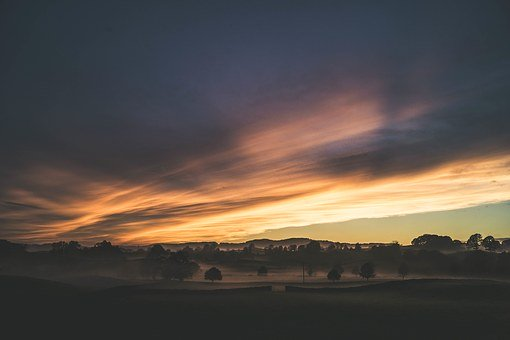mountain: (15, 236, 506, 329)
sky: (6, 2, 510, 239)
